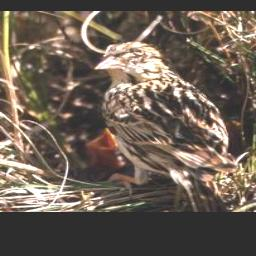Sparrow: (91, 41, 240, 211)
